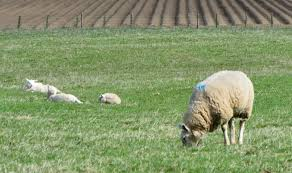sheep: (179, 70, 255, 151), (43, 87, 82, 107), (22, 78, 60, 98), (96, 92, 123, 107)
